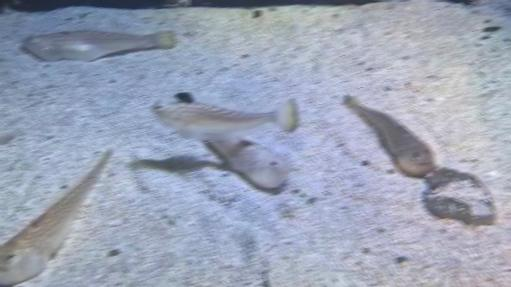Fish: (0, 148, 111, 285), (344, 95, 437, 177), (150, 99, 298, 140), (20, 30, 175, 61), (204, 139, 291, 189), (205, 140, 291, 189), (263, 270, 267, 286)
